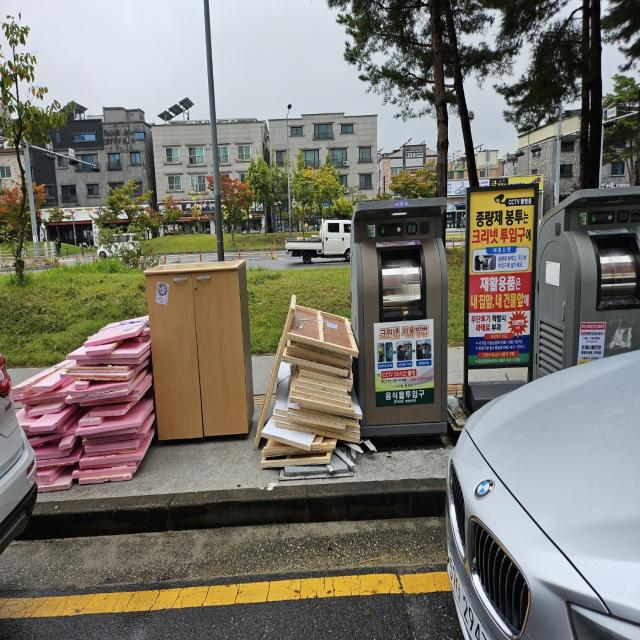CleanNet: (343, 189, 454, 450), (524, 172, 640, 388)
Large Waste Items: (11, 310, 159, 498), (139, 253, 260, 450), (257, 285, 368, 488)
